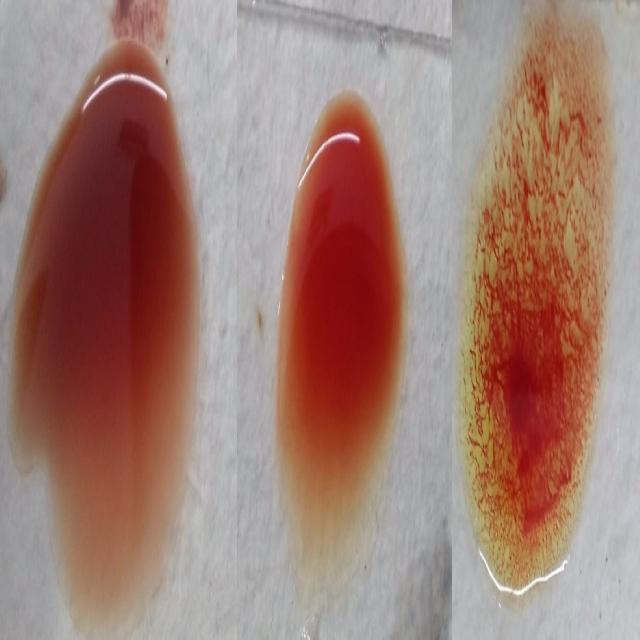A: (462, 31, 606, 600)
